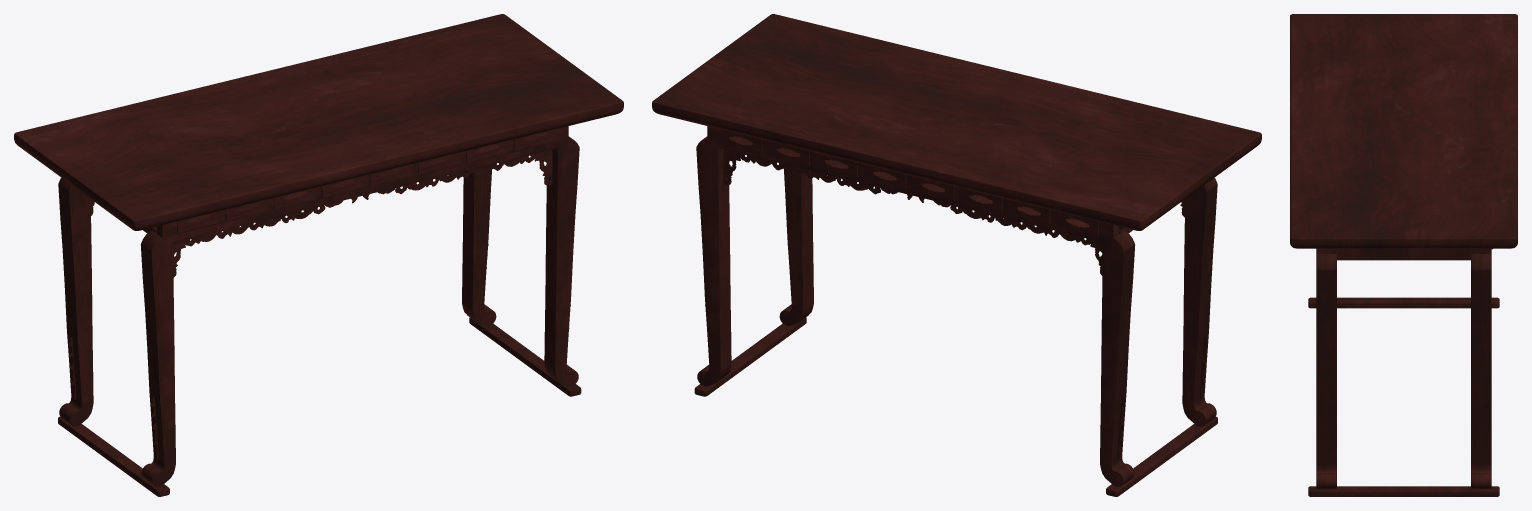
Rendered from SM_SJJ_TableB.fbx.
3 views of the same model, side by side, from view 1: azimuth 30°, elevation 25°; view 2: azimuth 150°, elevation 25°; view 3: azimuth 270°, elevation 25° (orthographic). The views are drawn at different scales.
Parts seen in each view (by area): view 1: SM_SJJ_TableB; view 2: SM_SJJ_TableB; view 3: SM_SJJ_TableB.
Boxes of the visible parts, x1=… form: SM_SJJ_TableB: x1=14, y1=14, x2=623, y2=496; SM_SJJ_TableB: x1=652, y1=14, x2=1261, y2=496; SM_SJJ_TableB: x1=1290, y1=14, x2=1517, y2=496.
Bounding box in the file's own units: 122 × 69.24 × 52.15.
